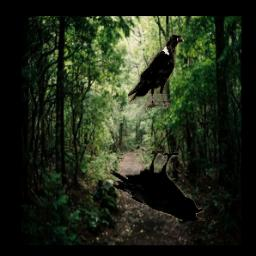Crow: (109, 149, 204, 221), (128, 34, 185, 109)
